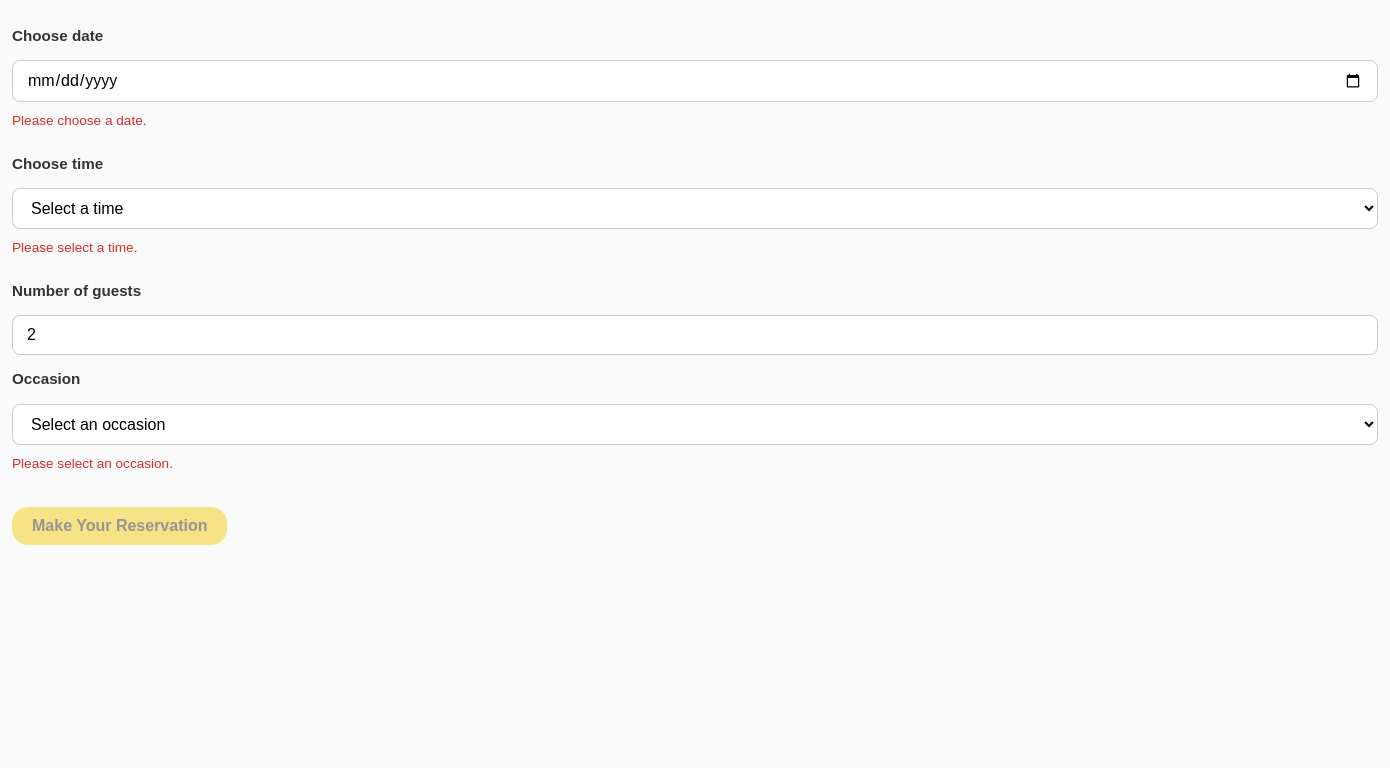
Test case: Validation – invalid (empty) states › Guests error message appears when value is out of range
Replace the text in the number field labelled "Number of guests" with "0": (695, 335) left=12, top=315, right=1378, bottom=355
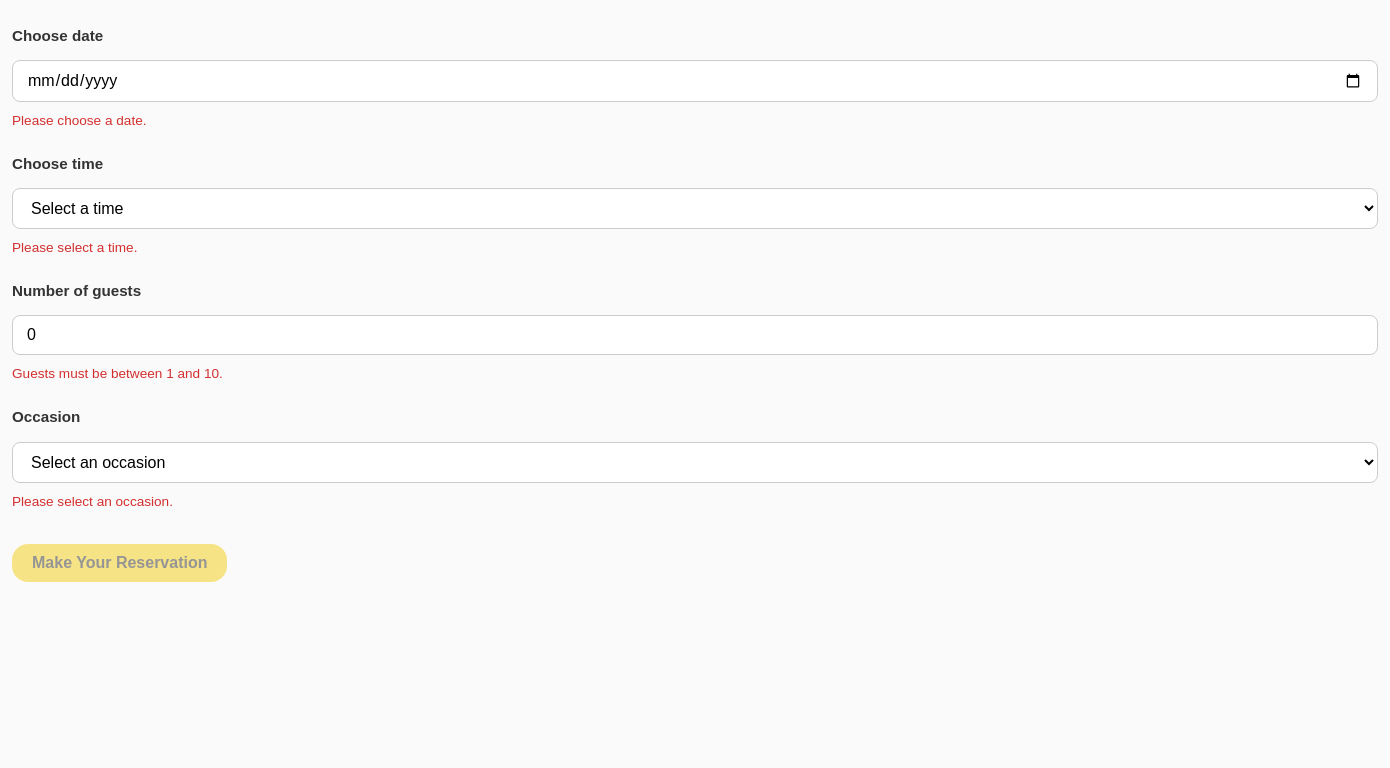
Expected: the button "Make Your Reservation" is disabled, left=12, top=544, right=228, bottom=582
Expected: the text "Guests must be between 1 and 10." is shown, left=12, top=366, right=223, bottom=381
